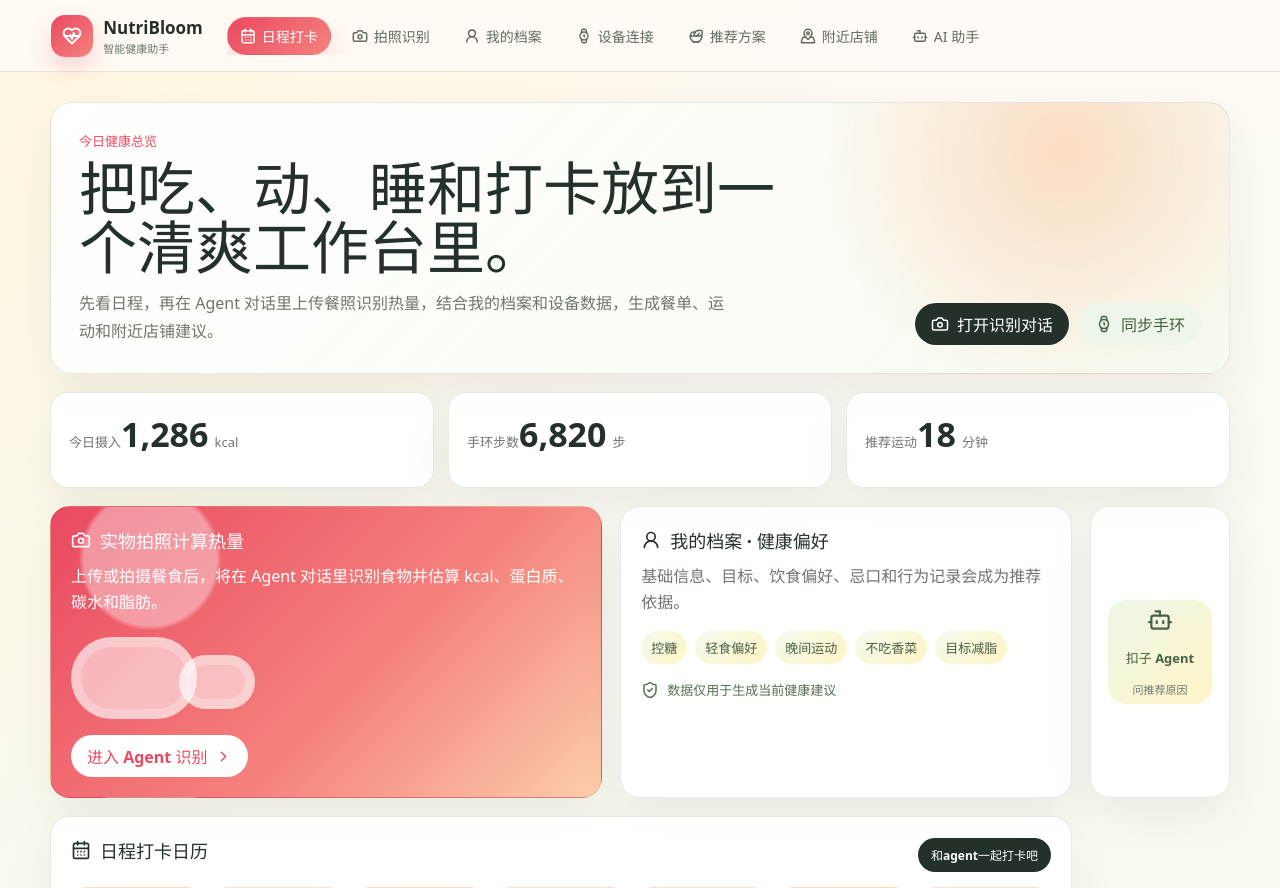
Test: Health web frontend › shows demo wearable data after syncing the band
Click the button "同步手环": x=1140, y=324 x1=1079 y1=303 x2=1201 y2=345
(page scrolled)
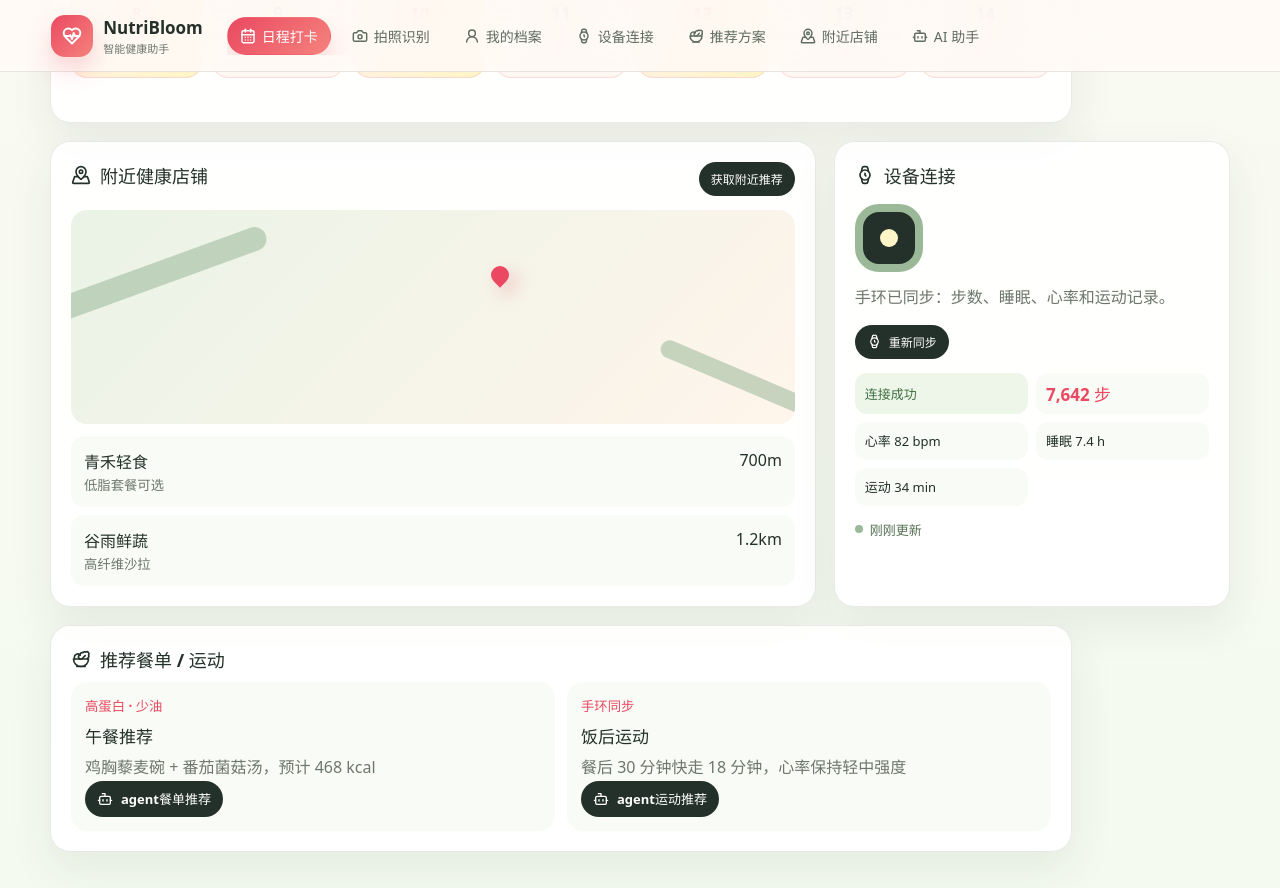
expect the text "7,642 步" is shown: met, box x1=1036 y1=373 x2=1209 y2=414
expect the text "心率 82 bpm" is shown: met, box x1=855 y1=422 x2=1028 y2=460
expect the text "睡眠 7.4 h" is shown: met, box x1=1036 y1=422 x2=1209 y2=460
